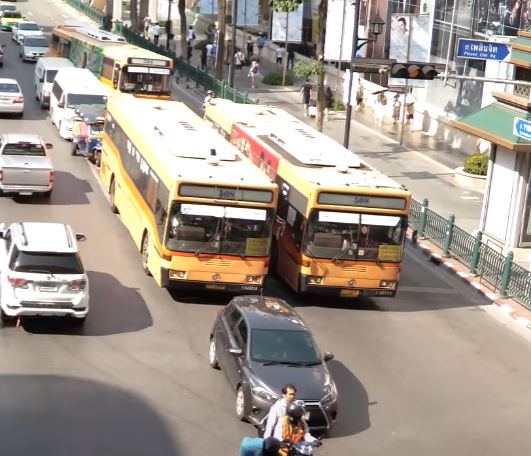Bus: (203, 99, 413, 310), (98, 97, 280, 301), (48, 24, 174, 100), (49, 66, 109, 142), (33, 57, 76, 106)
Car: (207, 293, 342, 434), (1, 219, 91, 324), (1, 131, 57, 197), (19, 36, 51, 62), (11, 20, 44, 42), (1, 9, 25, 32)
Motorcycle: (259, 381, 324, 456)
TukTuk: (70, 103, 103, 168)
